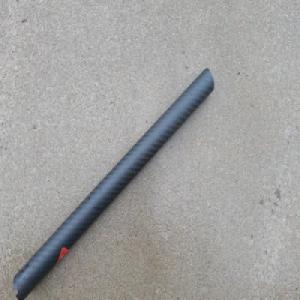LuggagePart: (11, 66, 214, 300)
